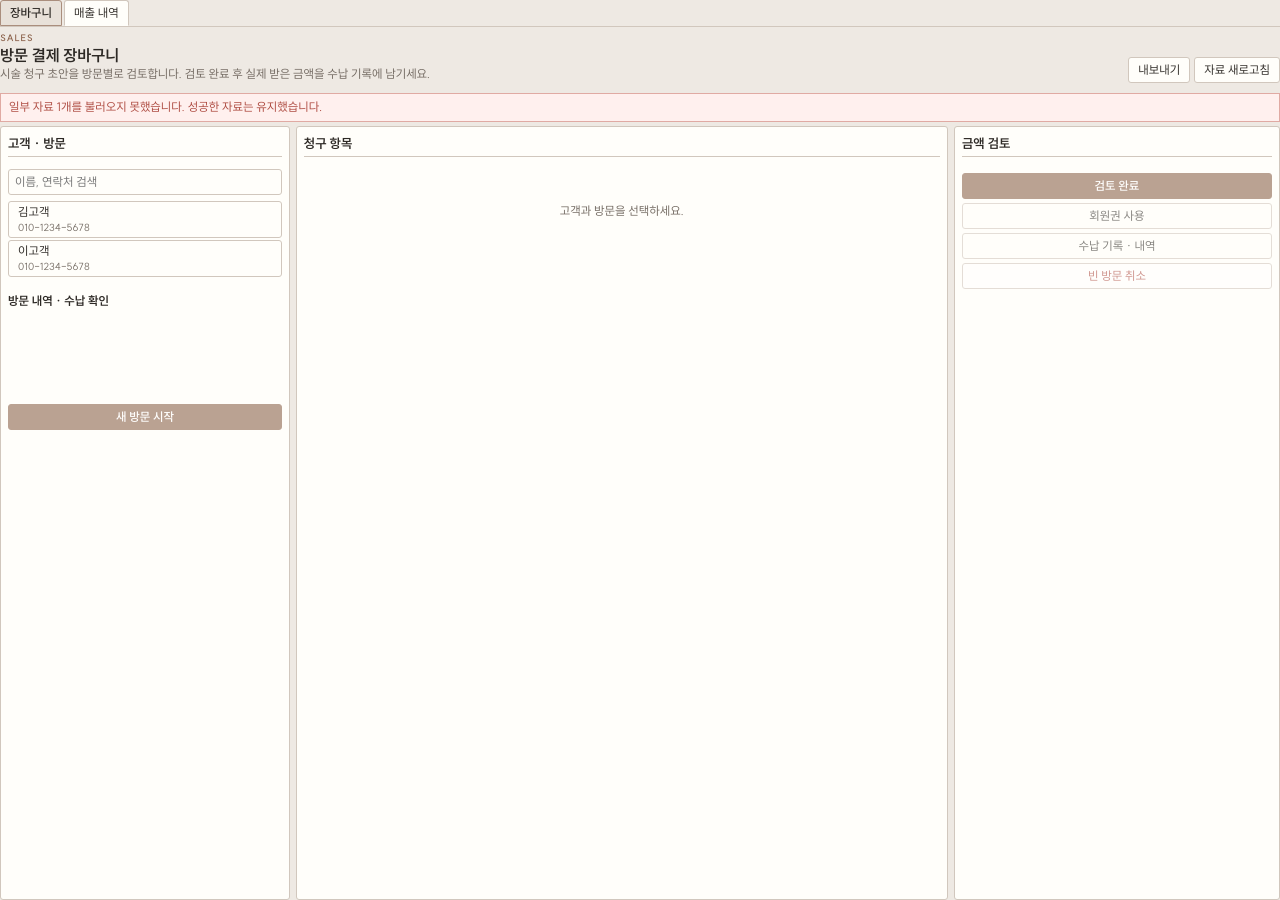
it: 매출 내역 탭 › 행의 장바구니 버튼은 해당 방문의 장바구니 탭을 연다
Expected: the heading "방문 결제 장바구니" is shown, [0,45,119,65]
Click the tab "매출 내역": (96, 13) [64,0,129,26]
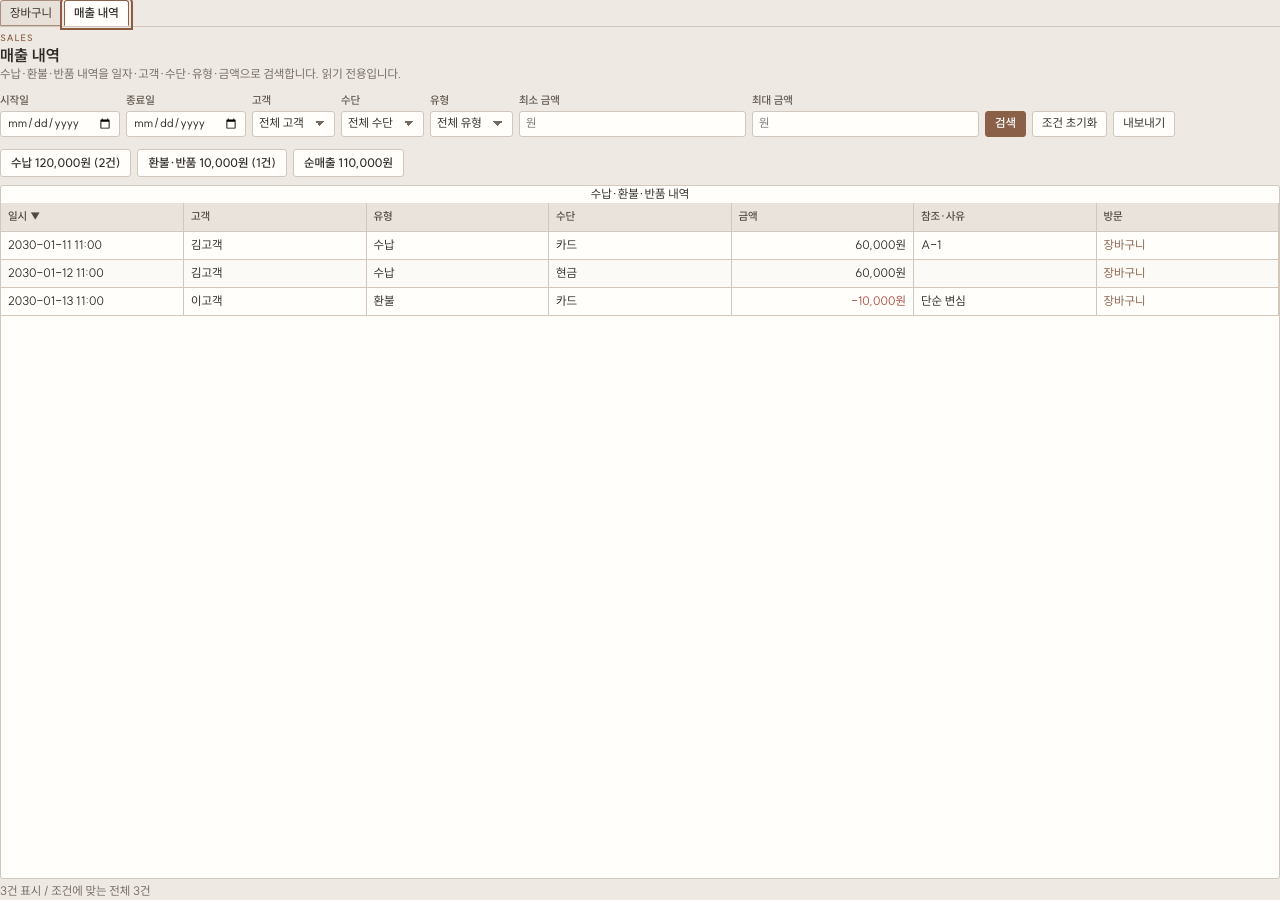
Expected: the text "A-1" is shown, [914,231,1096,259]
Click the button with aria-label "방문 장바구니 열기 김고객": (1124, 245) [1104,232,1146,258]
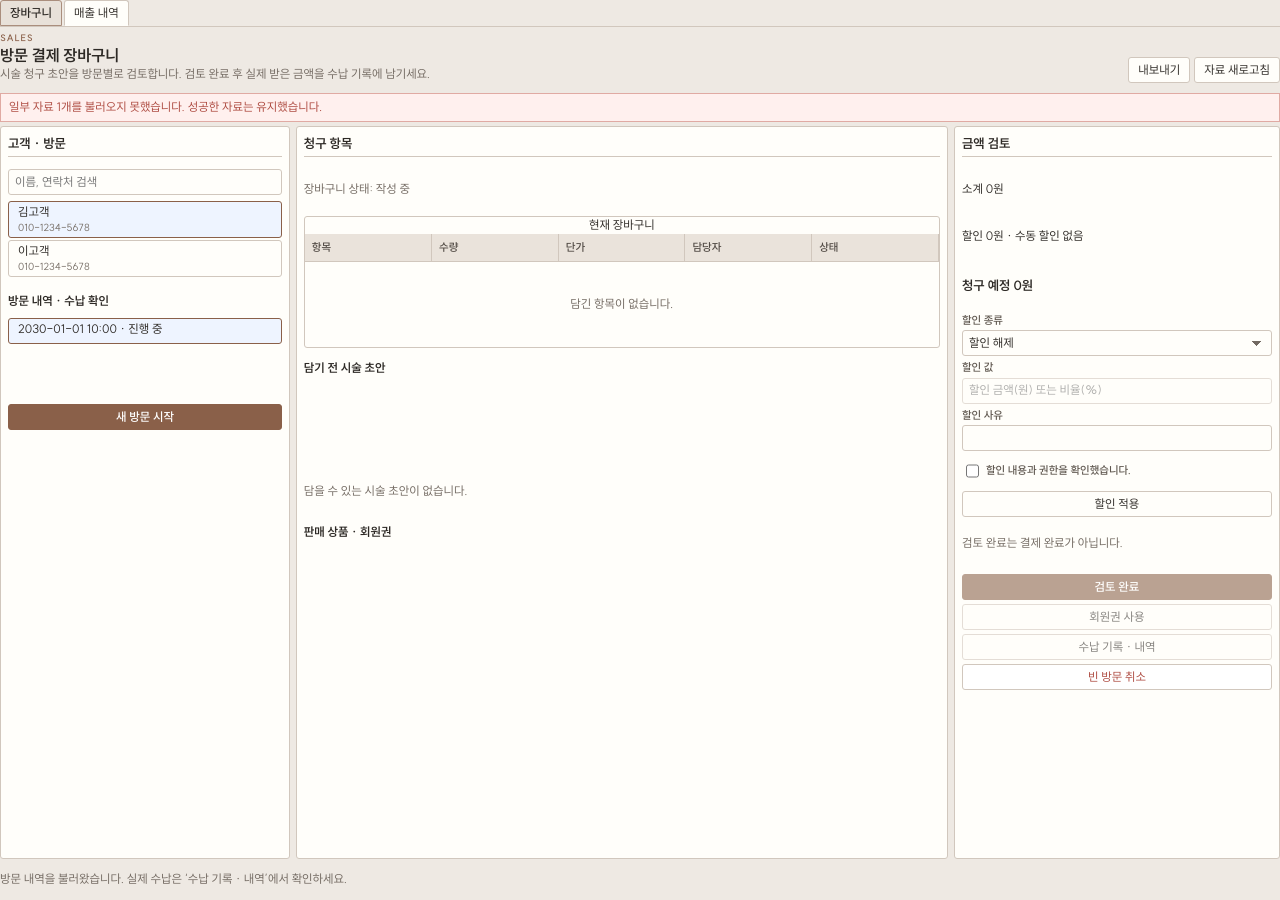
Expected: the text "장바구니 상태: 작성 중" is shown, [304,181,410,196]
